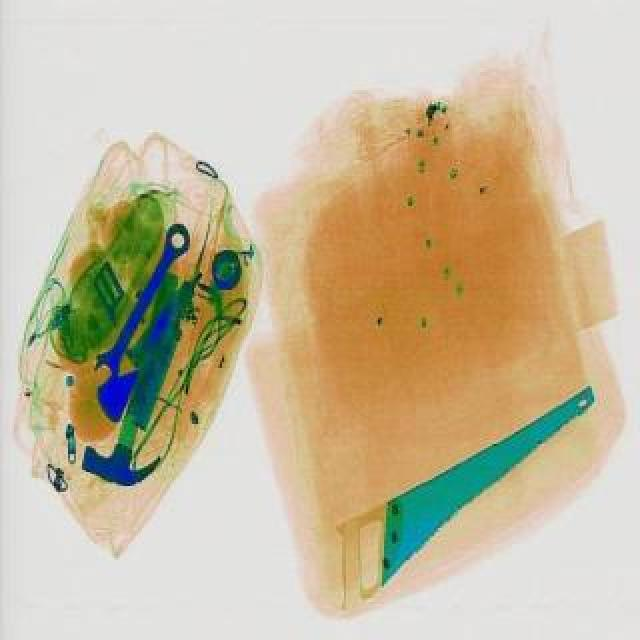scissors: (84, 218, 196, 388)
